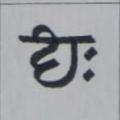anusvara: (85, 48, 96, 59)
